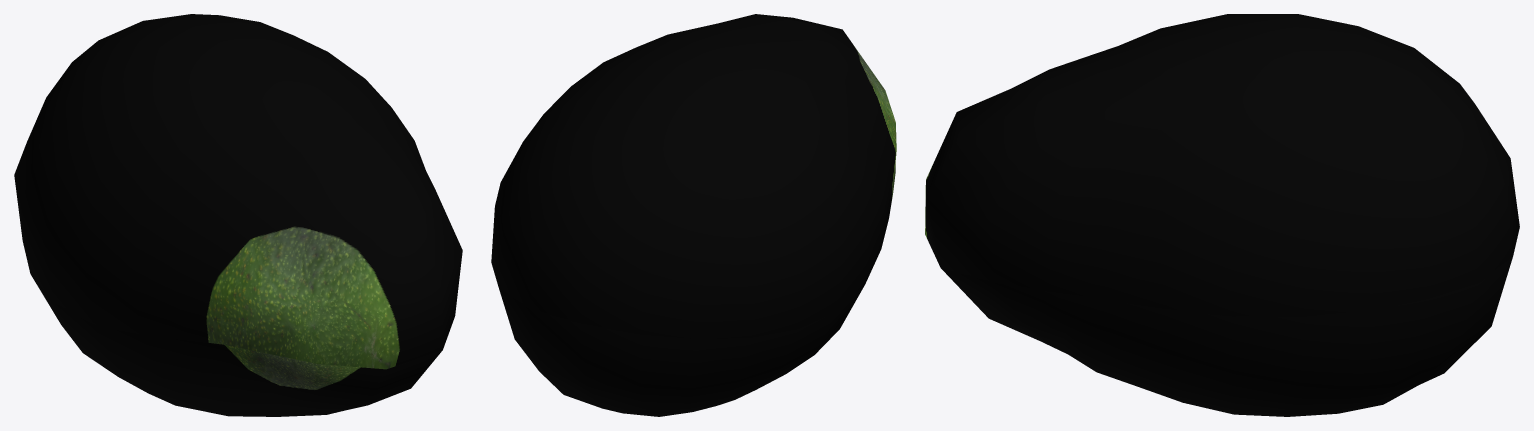
3 renders of one model, left to right at view 1: azimuth 30°, elevation 25°; view 2: azimuth 150°, elevation 25°; view 3: azimuth 270°, elevation 25°, orthographic. The views are drawn at different scales.
Size of the model in its own units: 0.6725 by 0.6708 by 1.
